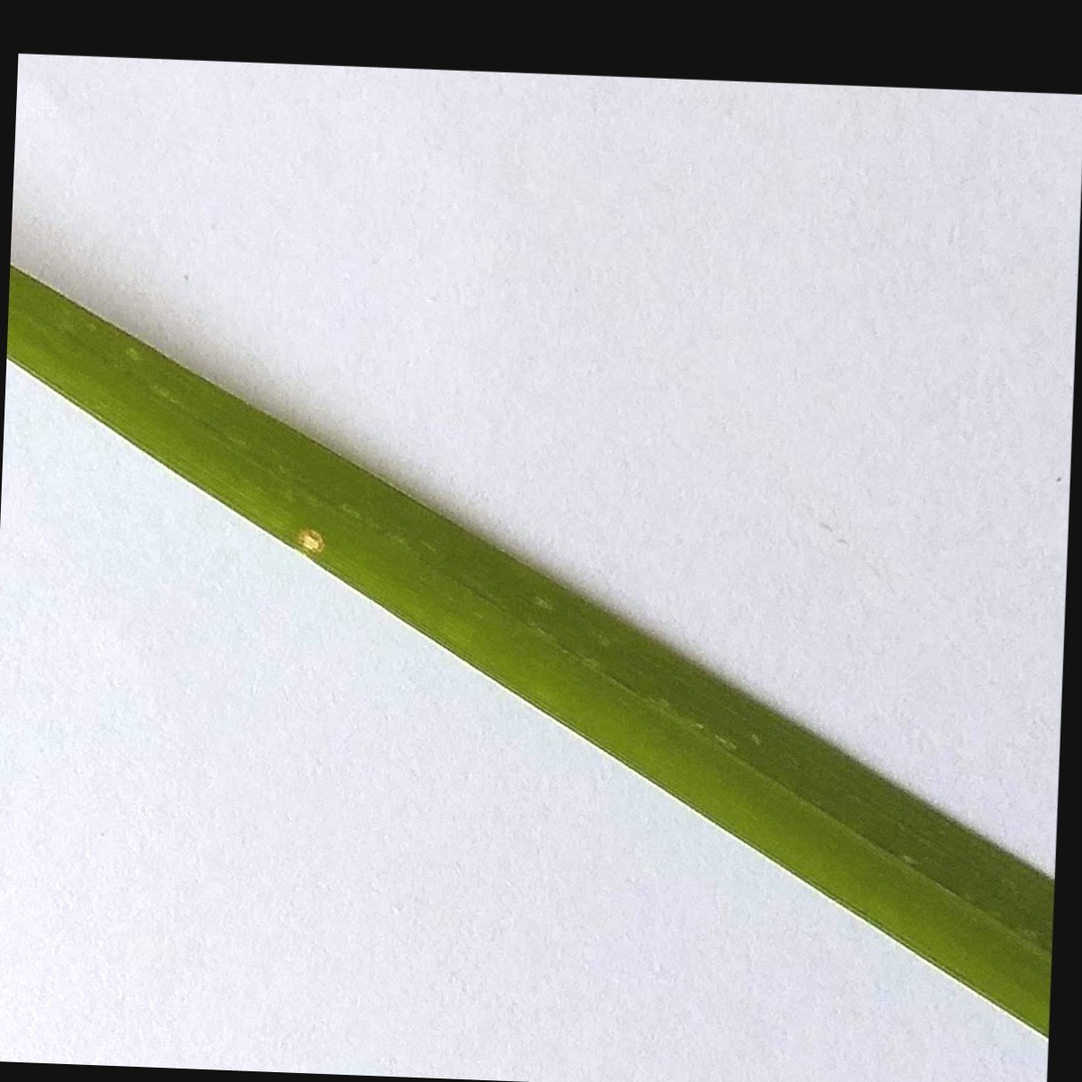Brown_Spot: (291, 503, 328, 569)
